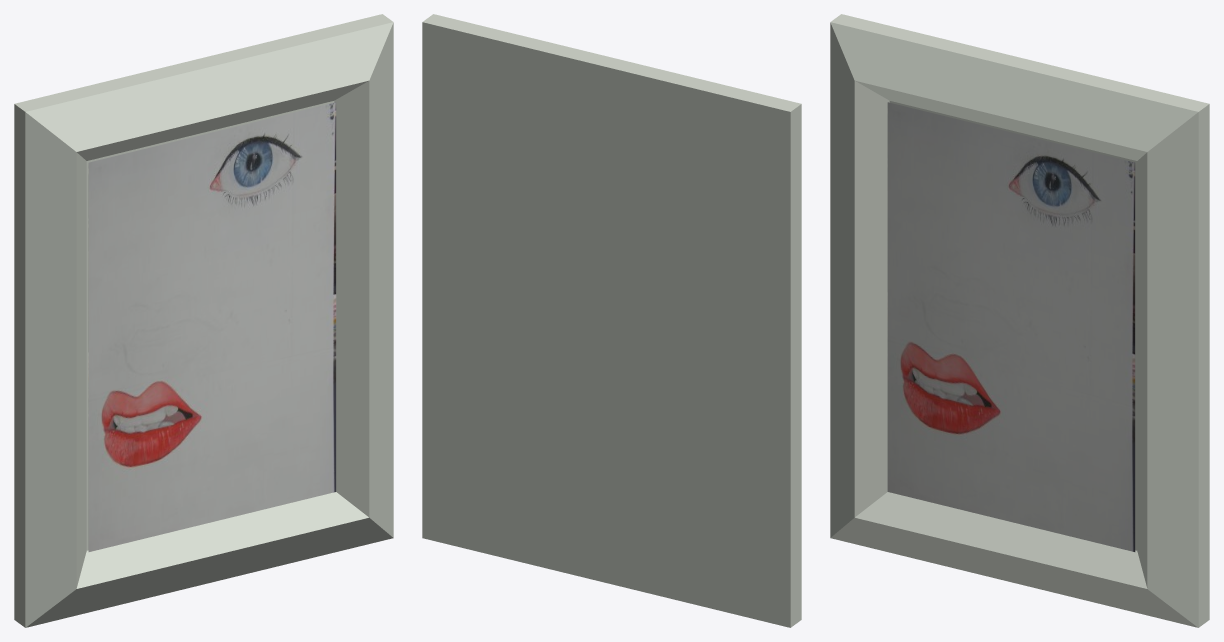
The model's file is EyeMouthPainting.fbx.
The picture shows the model from 3 angles, left to right: view 1: azimuth 30°, elevation 25°; view 2: azimuth 150°, elevation 25°; view 3: azimuth 330°, elevation 25°; orthographic projection.
Visible parts, largest first — view 1: polySurface2, polySurface1; view 2: polySurface2; view 3: polySurface2, polySurface1.
Boxes of the visible parts, x1,y1,x2,y2 form: polySurface2: [14, 14, 393, 627]; polySurface1: [88, 102, 336, 551]; polySurface2: [422, 14, 801, 627]; polySurface2: [830, 14, 1209, 627]; polySurface1: [887, 102, 1135, 551].
Bounding box in the file's own units: 5.86 × 7.84 × 0.6755.
